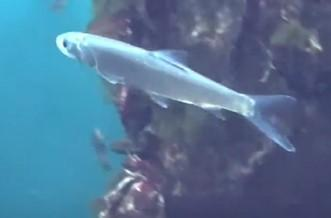Bangus: (51, 27, 300, 158)
